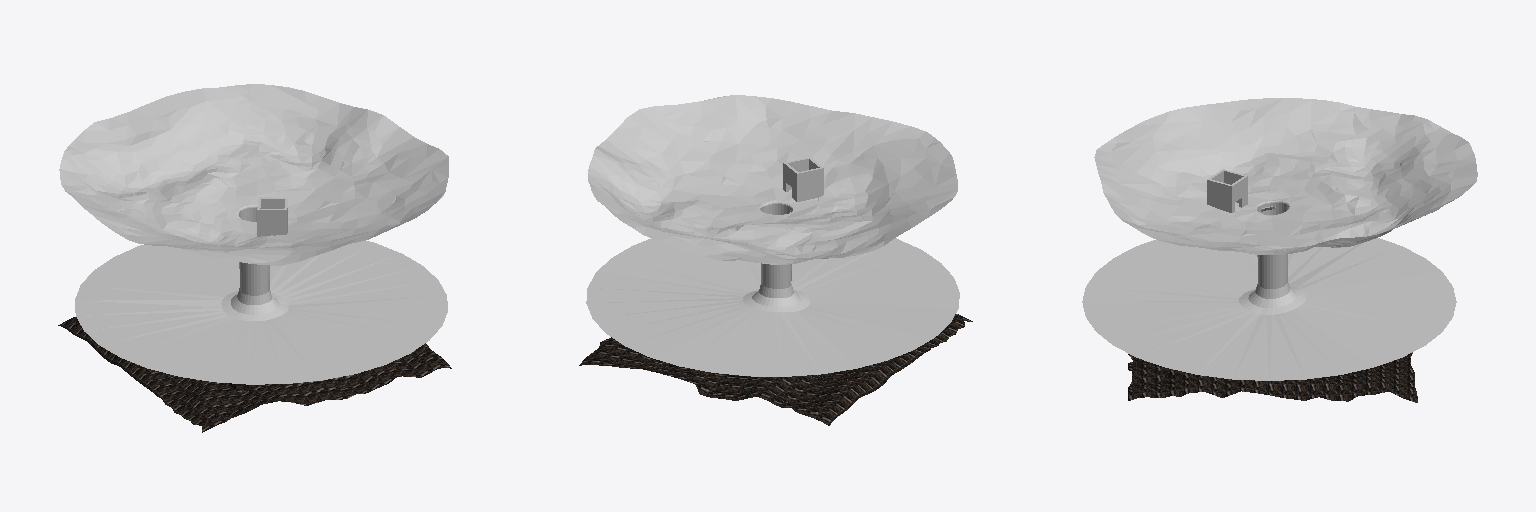
3 views of the same model, side by side, from view 1: azimuth 30°, elevation 25°; view 2: azimuth 150°, elevation 25°; view 3: azimuth 270°, elevation 25° (orthographic).
Visible parts, largest first — view 1: Plane, Plane.001, Plane.002; view 2: Plane, Plane.001, Plane.002; view 3: Plane, Plane.001, Plane.002.
Part boxes in pixels (x1,y1,x2,y2): Plane: (59, 84, 448, 384); Plane.001: (58, 317, 451, 432); Plane.002: (257, 197, 287, 236); Plane: (586, 95, 959, 376); Plane.001: (579, 314, 972, 425); Plane.002: (783, 157, 823, 201); Plane: (1082, 98, 1477, 380); Plane.001: (1128, 352, 1417, 402); Plane.002: (1207, 169, 1247, 212).
Size of the model in its own units: 100 by 54.12 by 106.
3 materials, 1 textured.